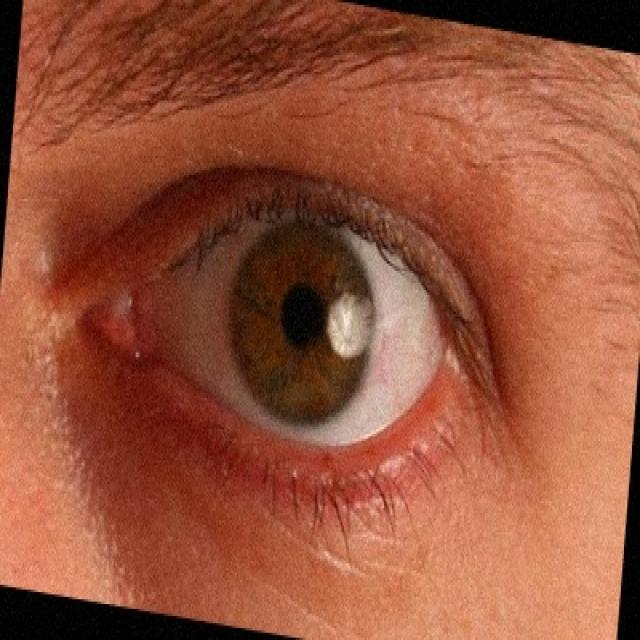Healthy-Eye: (51, 139, 516, 536)
